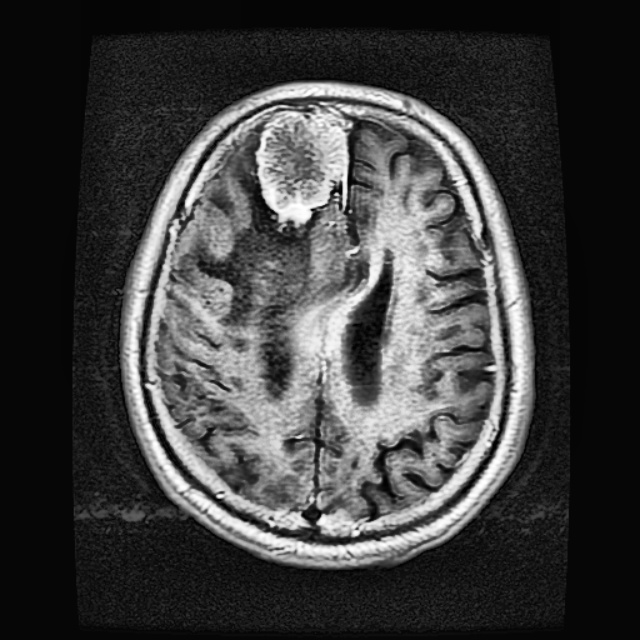Pituitary: (257, 109, 350, 223)
